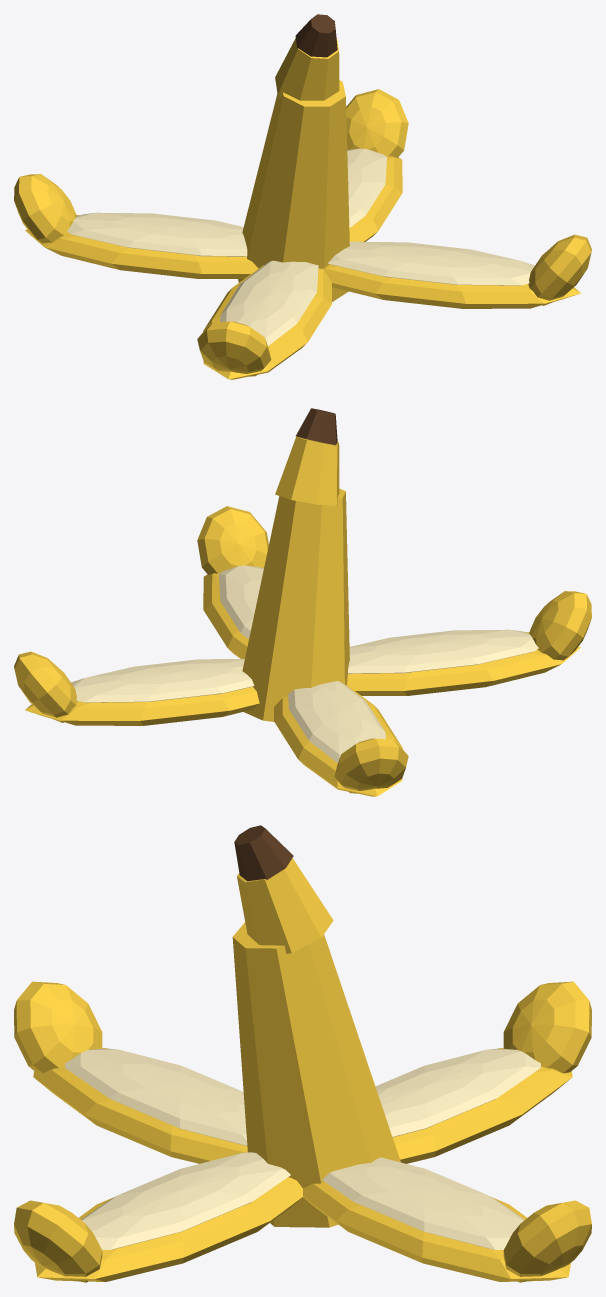
Rendered from banana.glb.
The picture shows the model from 3 angles, top to bottom: view 1: azimuth 30°, elevation 25°; view 2: azimuth 150°, elevation 25°; view 3: azimuth 270°, elevation 25°; orthographic projection. The views are drawn at different scales.
Parts seen in each view (by area): view 1: Banana; view 2: Banana; view 3: Banana.
Part boxes in pixels (x1=…): Banana: x1=14, y1=14, x2=591, y2=379; Banana: x1=14, y1=408, x2=591, y2=796; Banana: x1=14, y1=825, x2=591, y2=1282.
Size of the model in its own units: 1.17 by 0.845 by 1.17.
